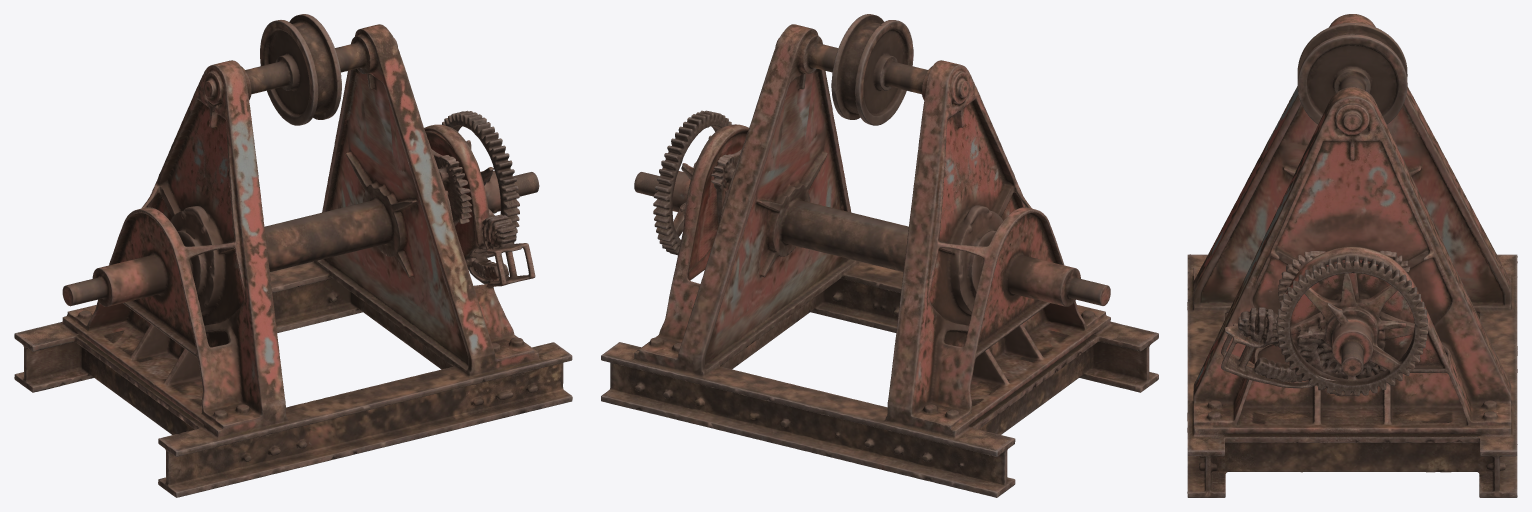
File: soporte_manivela.glb
3 renders of one model, left to right at view 1: azimuth 30°, elevation 25°; view 2: azimuth 150°, elevation 25°; view 3: azimuth 270°, elevation 25°, orthographic.
Bounding box in the file's own units: 1.9 × 1.43 × 1.14.
Materials: 1 (1 with a texture image).
